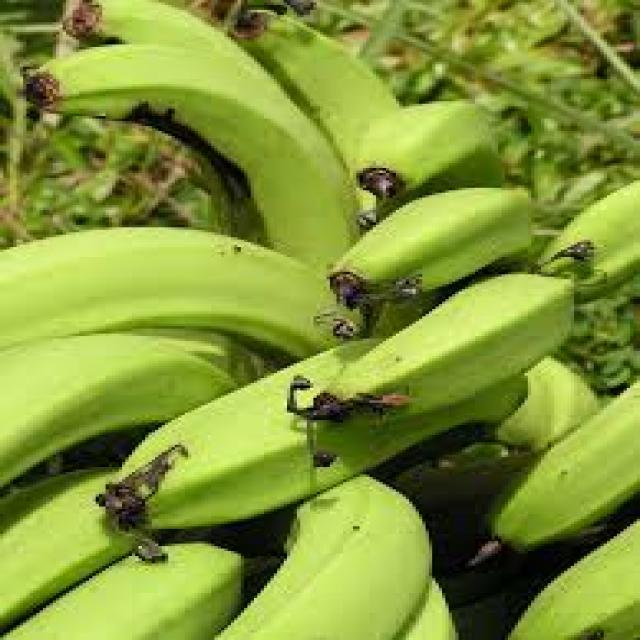banana: (1, 4, 640, 632)
